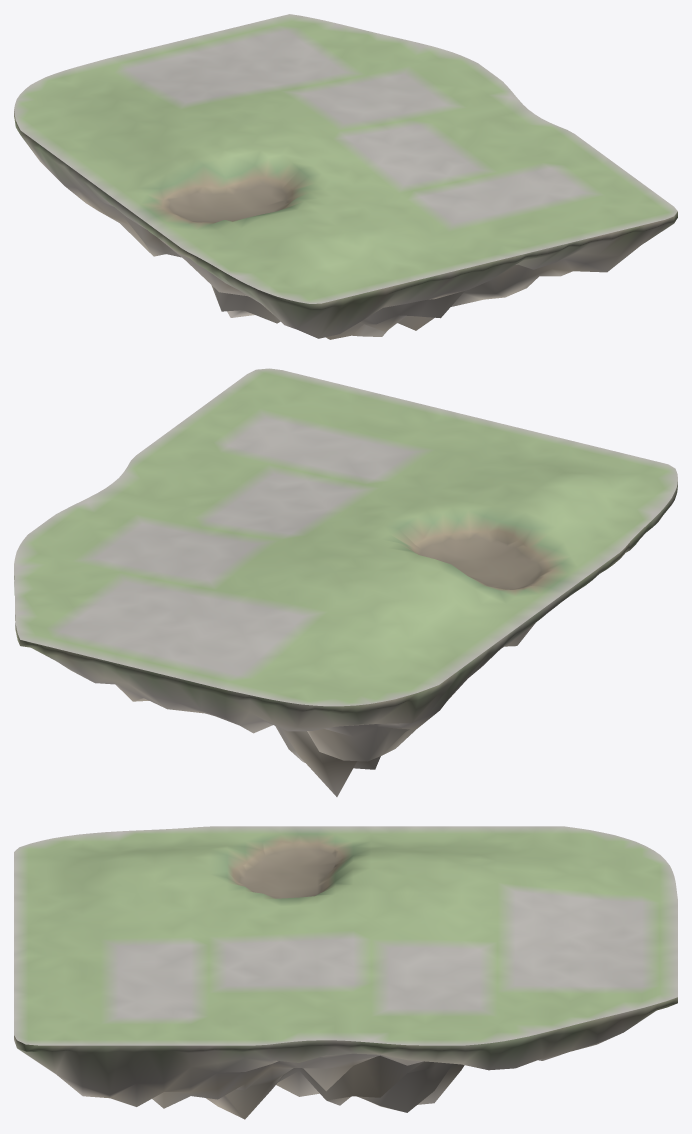
The model's file is SKY-032.rock.glb.
3 renders of one model, top to bottom at view 1: azimuth 30°, elevation 25°; view 2: azimuth 150°, elevation 25°; view 3: azimuth 270°, elevation 25°, orthographic. The views are drawn at different scales.
Parts seen in each view (by area): view 1: deck-col, rock; view 2: deck-col, rock; view 3: deck-col, rock.
Boxes of the visible parts, x1,y1,x2,y2 form: deck-col: [14, 14, 677, 303]; rock: [14, 111, 677, 339]; deck-col: [14, 368, 677, 706]; rock: [14, 482, 677, 796]; deck-col: [14, 826, 677, 1045]; rock: [14, 997, 677, 1119].
Bounding box in the file's own units: 115 × 52.82 × 147.
